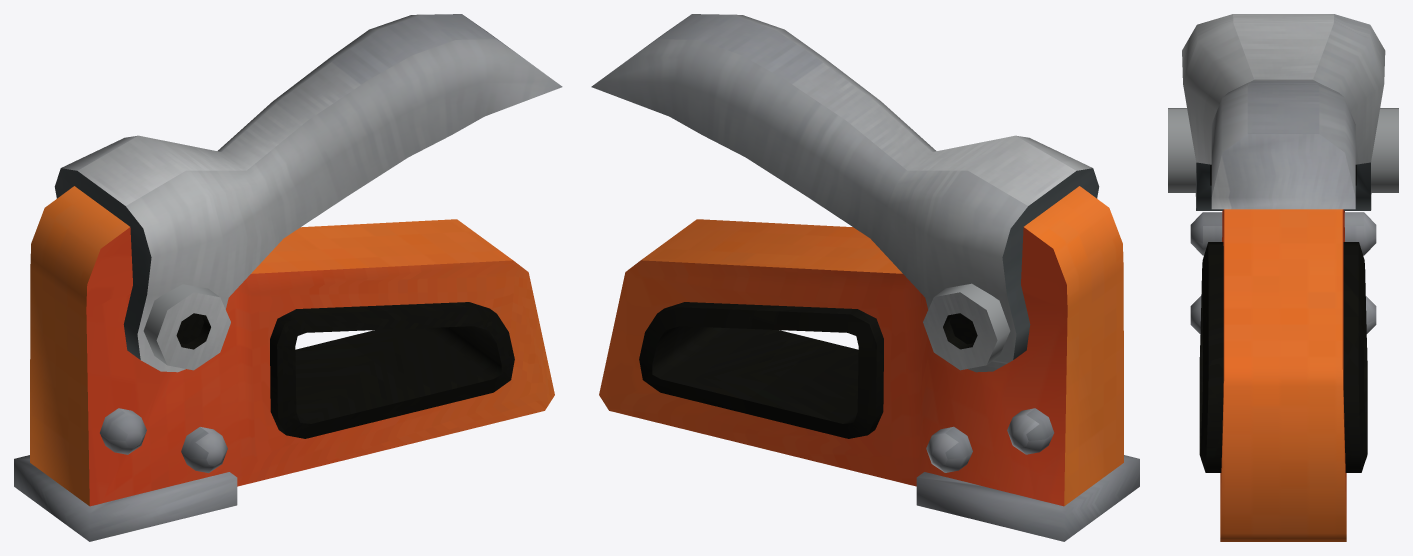
The model's file is stapler.fbx.
3 renders of one model, left to right at view 1: azimuth 30°, elevation 25°; view 2: azimuth 150°, elevation 25°; view 3: azimuth 270°, elevation 25°, orthographic. The views are drawn at different scales.
Parts seen in each view (by area): view 1: stapler; view 2: stapler; view 3: stapler.
Part boxes in pixels (bbox=[...]): stapler: bbox=[14, 14, 562, 541]; stapler: bbox=[591, 14, 1139, 541]; stapler: bbox=[1168, 14, 1398, 541].
Size of the model in its own units: 27.49 by 21.61 by 10.97.
